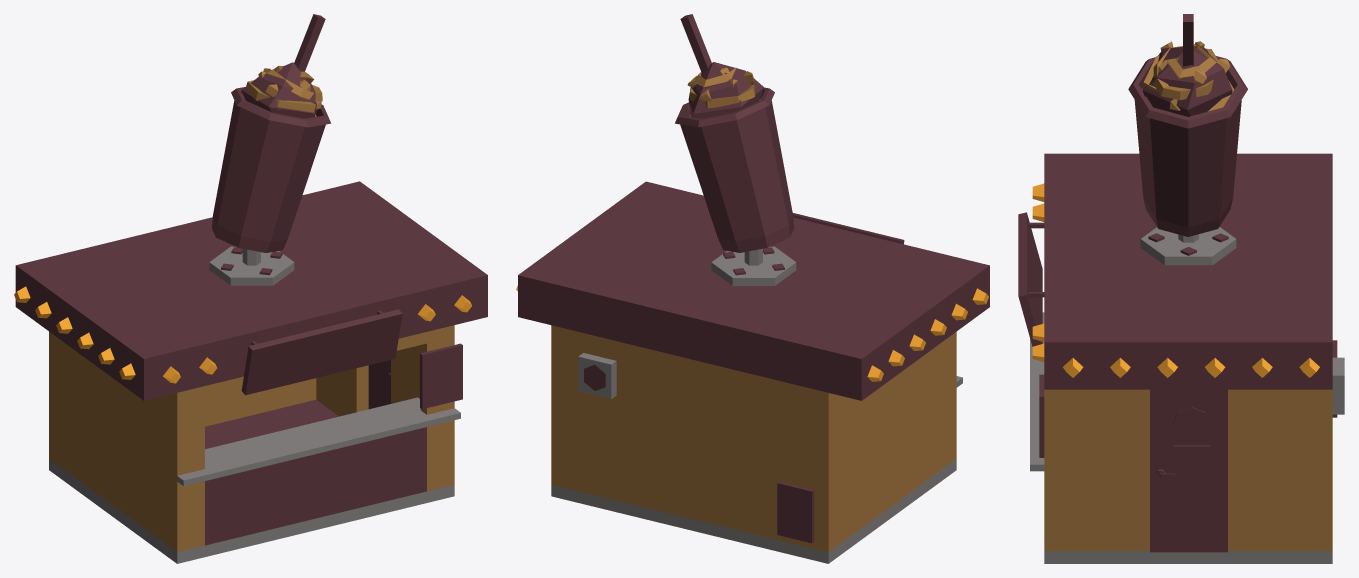
Rendered from coffee-stall.fbx.
3 views of the same model, side by side, from view 1: azimuth 30°, elevation 25°; view 2: azimuth 150°, elevation 25°; view 3: azimuth 270°, elevation 25° (orthographic). The views are drawn at different scales.
Parts seen in each view (by area): view 1: coffee-stall; view 2: coffee-stall; view 3: coffee-stall.
Boxes of the visible parts, <box> form: coffee-stall: <box>14,14,487,563</box>; coffee-stall: <box>516,14,989,563</box>; coffee-stall: <box>1018,14,1344,563</box>.
Size of the model in its own units: 4.9 by 5.84 by 3.39.
